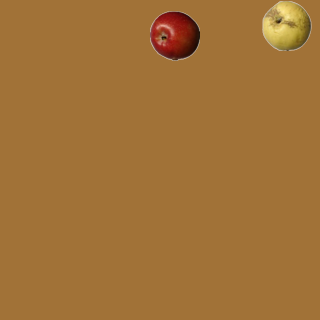Apple Braeburn: (149, 10, 199, 60)
Apple Golden 1: (261, 0, 311, 50)
